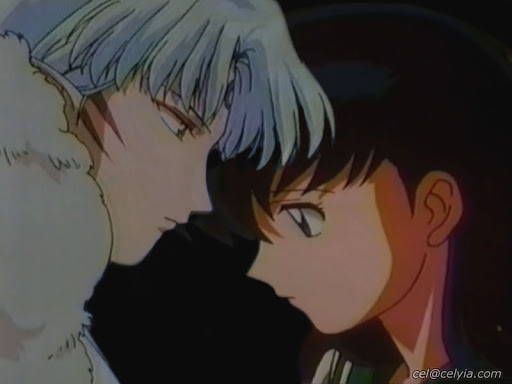sesshomaru: (2, 2, 273, 292)
